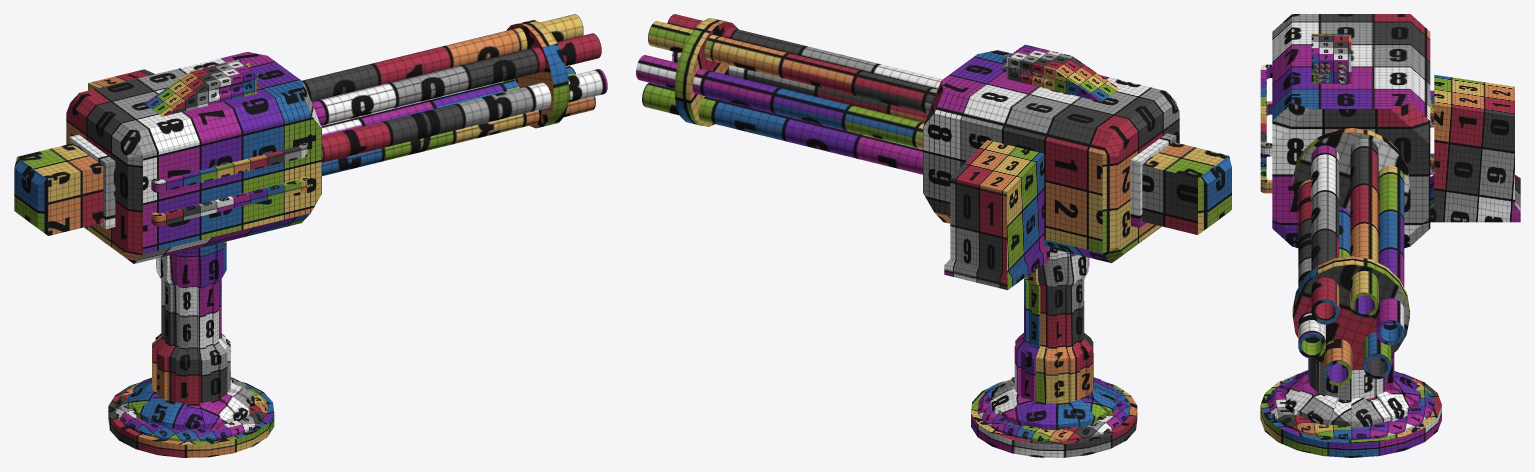
The model's file is Turret.fbx.
The picture shows the model from 3 angles, left to right: view 1: azimuth 30°, elevation 25°; view 2: azimuth 150°, elevation 25°; view 3: azimuth 270°, elevation 25°; orthographic projection. The views are drawn at different scales.
Visible parts, largest first — view 1: polySurface86, polySurface97, polySurface92, polySurface68, polySurface94, polySurface95, polySurface88, polySurface87; view 2: polySurface86, polySurface97, polySurface92, polySurface89, polySurface68, polySurface94, polySurface95; view 3: polySurface97, polySurface86, polySurface89, polySurface92, polySurface94, polySurface95, polySurface68, polySurface87, polySurface88.
Boxes of the visible parts, x1=… form: polySurface86: x1=14, y1=52, x2=321, y2=263; polySurface97: x1=302, y1=14, x2=607, y2=176; polySurface92: x1=127, y1=241, x2=254, y2=429; polySurface68: x1=144, y1=59, x2=256, y2=116; polySurface94: x1=108, y1=381, x2=274, y2=457; polySurface95: x1=115, y1=382, x2=267, y2=441; polySurface88: x1=151, y1=176, x2=307, y2=226; polySurface87: x1=151, y1=142, x2=307, y2=192; polySurface86: x1=923, y1=50, x2=1231, y2=263; polySurface97: x1=636, y1=14, x2=942, y2=174; polySurface92: x1=990, y1=247, x2=1117, y2=429; polySurface89: x1=944, y1=140, x2=1049, y2=290; polySurface68: x1=1006, y1=44, x2=1119, y2=101; polySurface94: x1=971, y1=380, x2=1137, y2=457; polySurface95: x1=977, y1=379, x2=1130, y2=441; polySurface97: x1=1292, y1=128, x2=1409, y2=385; polySurface86: x1=1272, y1=14, x2=1430, y2=248; polySurface89: x1=1430, y1=74, x2=1520, y2=222; polySurface92: x1=1281, y1=353, x2=1420, y2=427; polySurface94: x1=1260, y1=373, x2=1441, y2=457; polySurface95: x1=1267, y1=376, x2=1434, y2=440; polySurface68: x1=1311, y1=34, x2=1351, y2=83; polySurface87: x1=1260, y1=64, x2=1272, y2=156; polySurface88: x1=1260, y1=101, x2=1272, y2=193.
Size of the model in its own units: 2.99 by 1.8 by 1.11.
